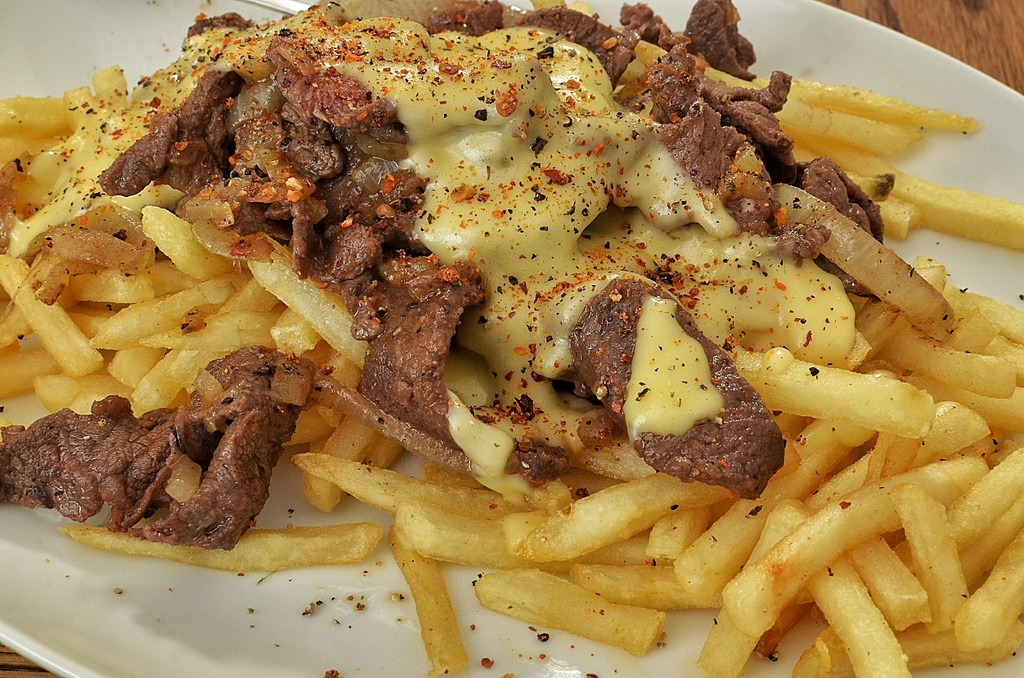French fries: (743, 60, 983, 181)
